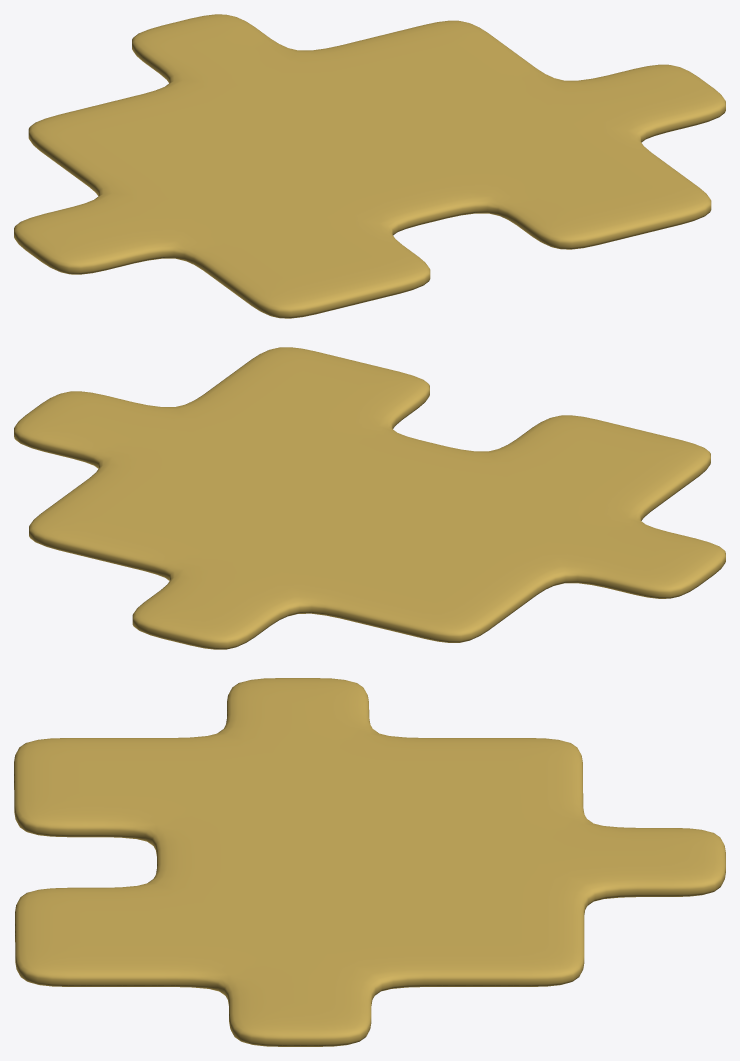
File: GoldenPuzzle-05-MMMF.fbx
3 views of the same model, one above another, from view 1: azimuth 30°, elevation 25°; view 2: azimuth 150°, elevation 25°; view 3: azimuth 270°, elevation 25° (orthographic). The views are drawn at different scales.
Parts seen in each view (by area): view 1: Puzzle_005; view 2: Puzzle_005; view 3: Puzzle_005.
Part boxes in pixels (x1,y1,x2,y2): Puzzle_005: (14, 14, 725, 318); Puzzle_005: (14, 347, 725, 649); Puzzle_005: (14, 678, 725, 1046).
Size of the model in its own units: 0.375 by 0.00924 by 0.3138.
